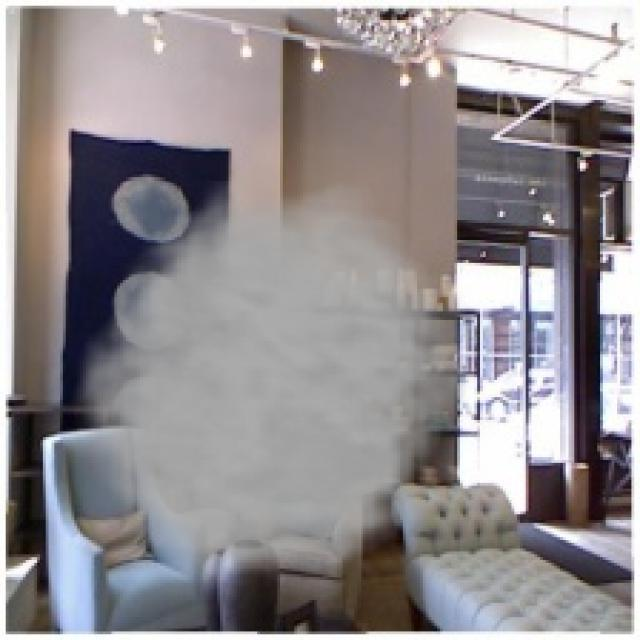Smoke: (62, 180, 488, 600)
